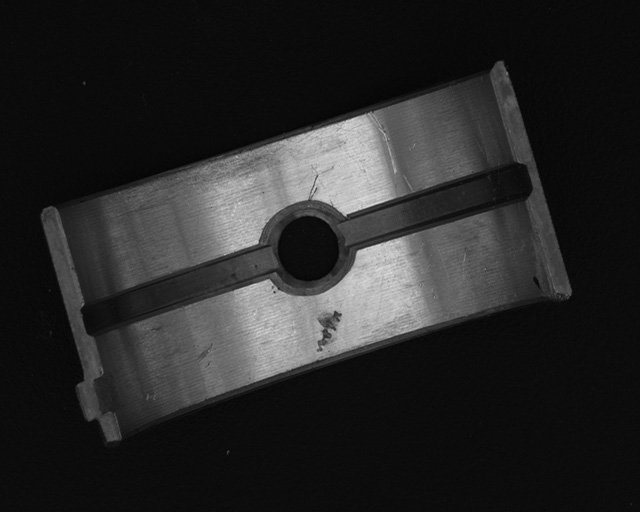blot: (532, 275, 543, 293)
bruise: (315, 309, 343, 353), (197, 343, 214, 368), (142, 392, 157, 403)
gap: (81, 242, 275, 334), (341, 163, 530, 251)
hole: (266, 205, 351, 291)
nick: (367, 111, 399, 176), (308, 173, 319, 201)
scratch: (100, 126, 283, 220)
